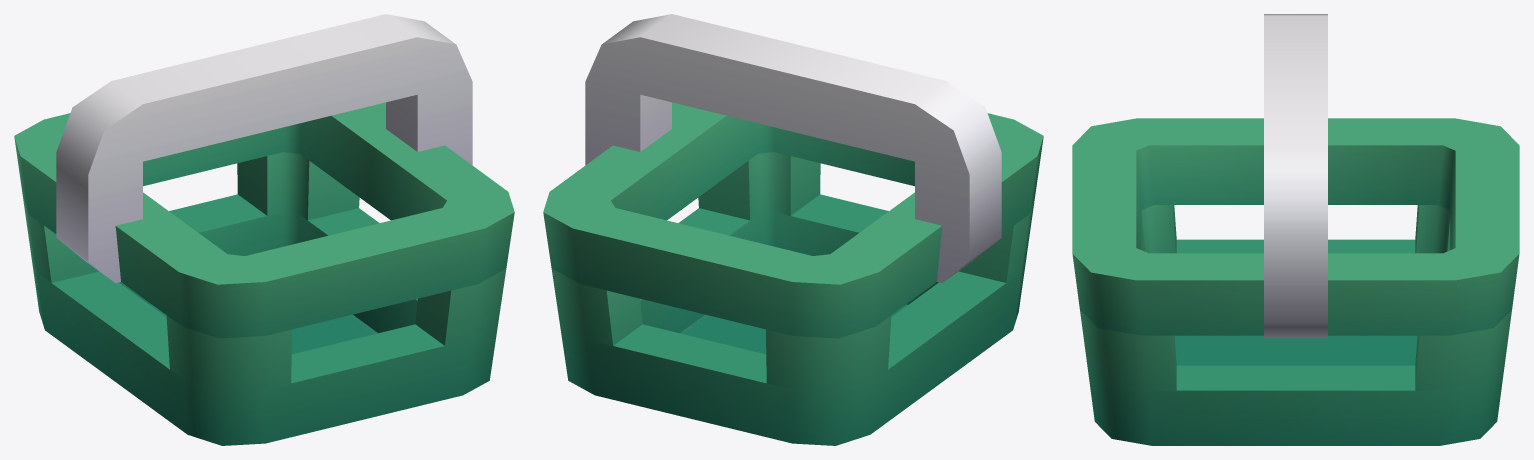
File: shopping-basket.glb
The picture shows the model from 3 angles, left to right: view 1: azimuth 30°, elevation 25°; view 2: azimuth 150°, elevation 25°; view 3: azimuth 270°, elevation 25°; orthographic projection.
Parts seen in each view (by area): view 1: shopping-basket; view 2: shopping-basket; view 3: shopping-basket.
Part boxes in pixels (<box>): shopping-basket: <box>14,14,514,445</box>; shopping-basket: <box>543,14,1043,445</box>; shopping-basket: <box>1072,14,1519,445</box>.
Bounding box in the file's own units: 0.35 × 0.25 × 0.35.
1 material, 1 textured.
